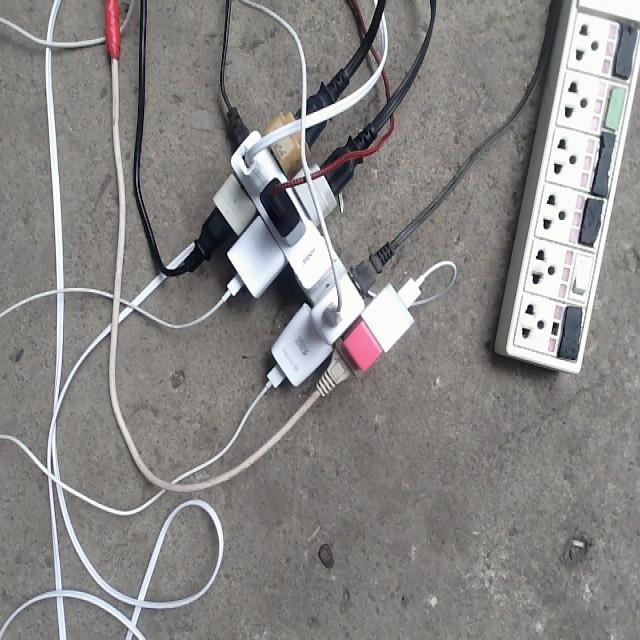-: (190, 108, 421, 396)
